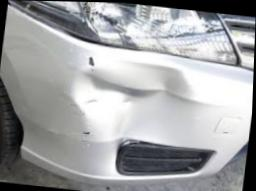Bumper: (29, 49, 243, 166)
